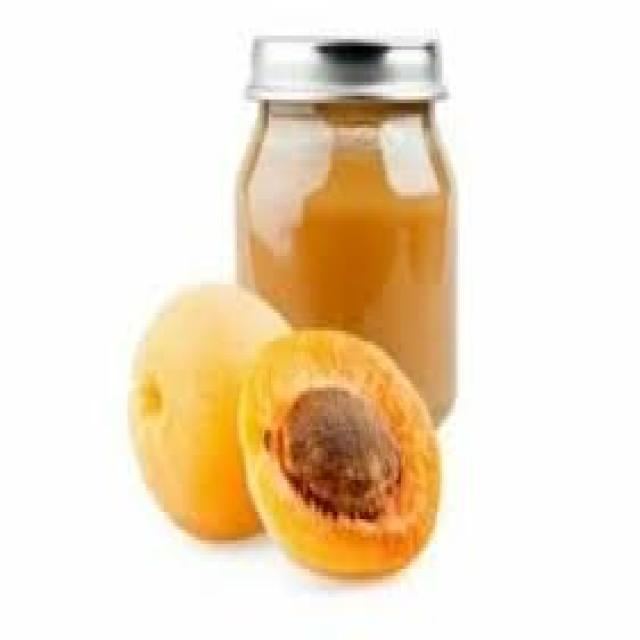Cekirdek: (280, 388, 399, 516)
Kayisi: (128, 284, 287, 537)
